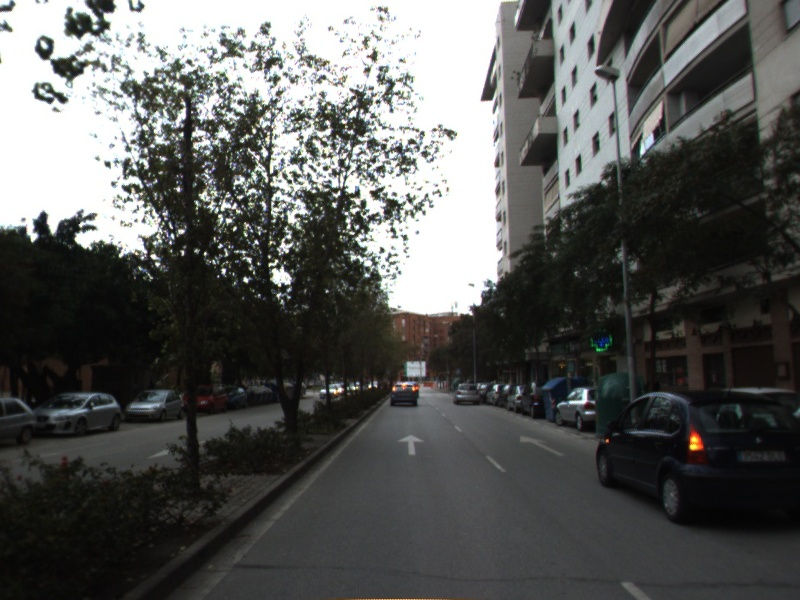STRAIGHT: (518, 433, 568, 458), (395, 432, 427, 457)
